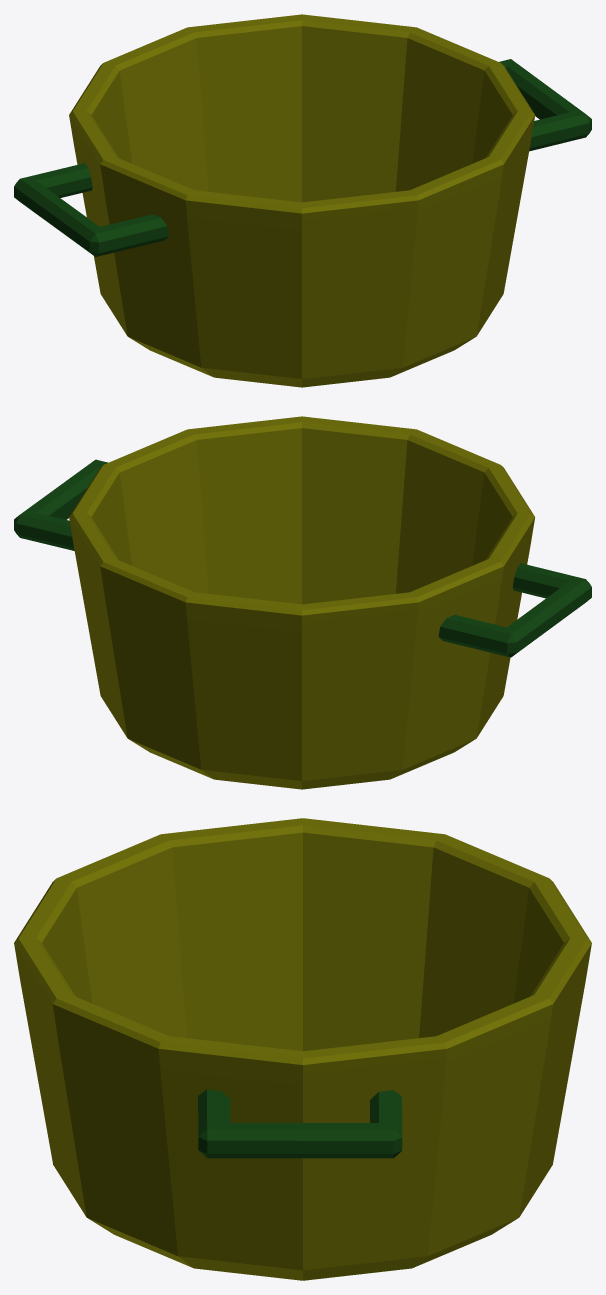
Rendered from Kitchen_SmallProps_SaucepanTwo.fbx.
The picture shows the model from 3 angles, top to bottom: view 1: azimuth 30°, elevation 25°; view 2: azimuth 150°, elevation 25°; view 3: azimuth 270°, elevation 25°; orthographic projection. The views are drawn at different scales.
Parts seen in each view (by area): view 1: saucepan_two; view 2: saucepan_two; view 3: saucepan_two.
Boxes of the visible parts, box(x1,y1,x2,y2) form: saucepan_two: box(14, 14, 591, 387); saucepan_two: box(14, 416, 591, 789); saucepan_two: box(14, 818, 591, 1280).
Size of the model in its own units: 23.89 by 9.16 by 19.17.
